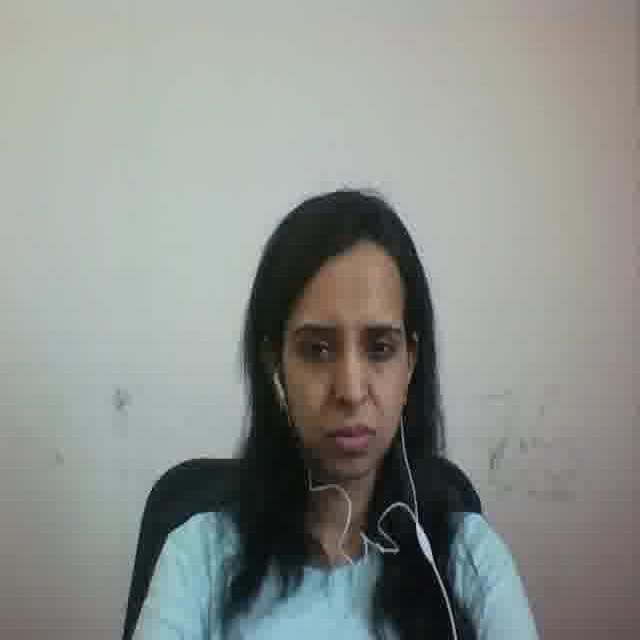Confusion: (279, 256, 408, 481)
